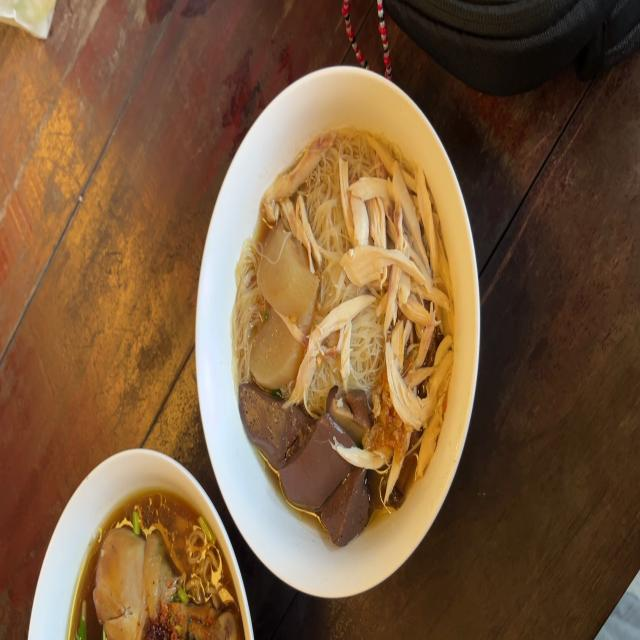noodle: (232, 106, 462, 547), (57, 485, 243, 640)
